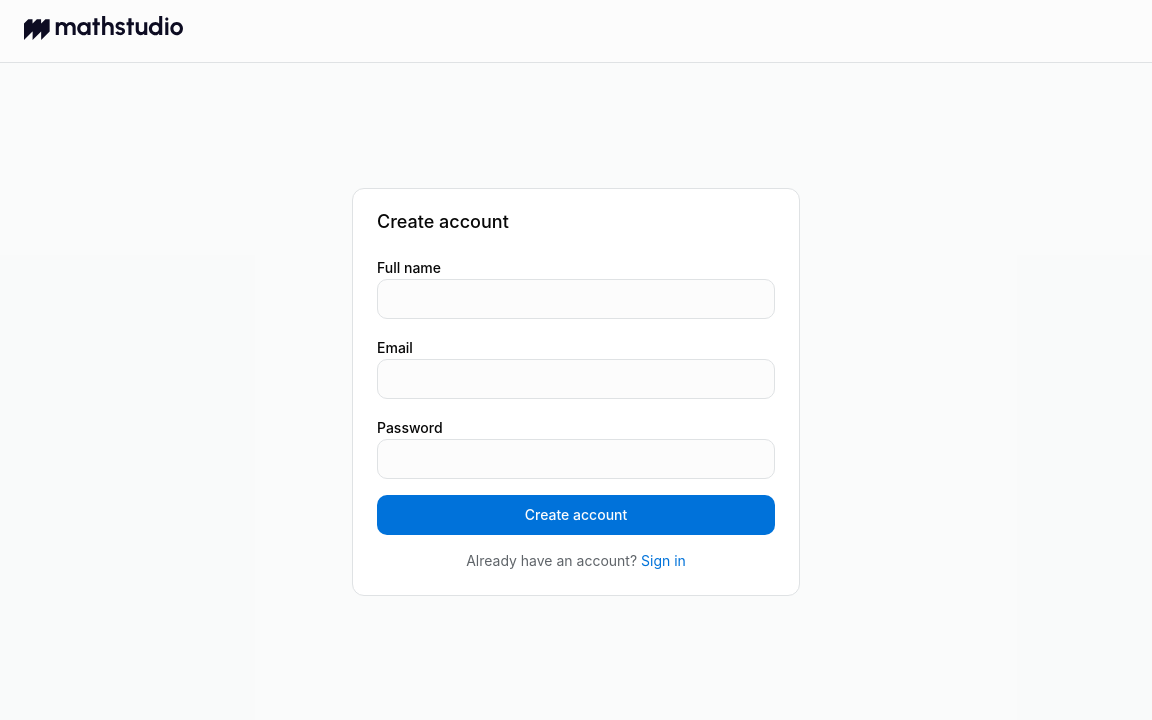
register page › validates password length
Step 1. Type "Alice" into the field labelled "Full name" → coordinates (576, 298), box top-left (377, 278), bottom-right (775, 318)
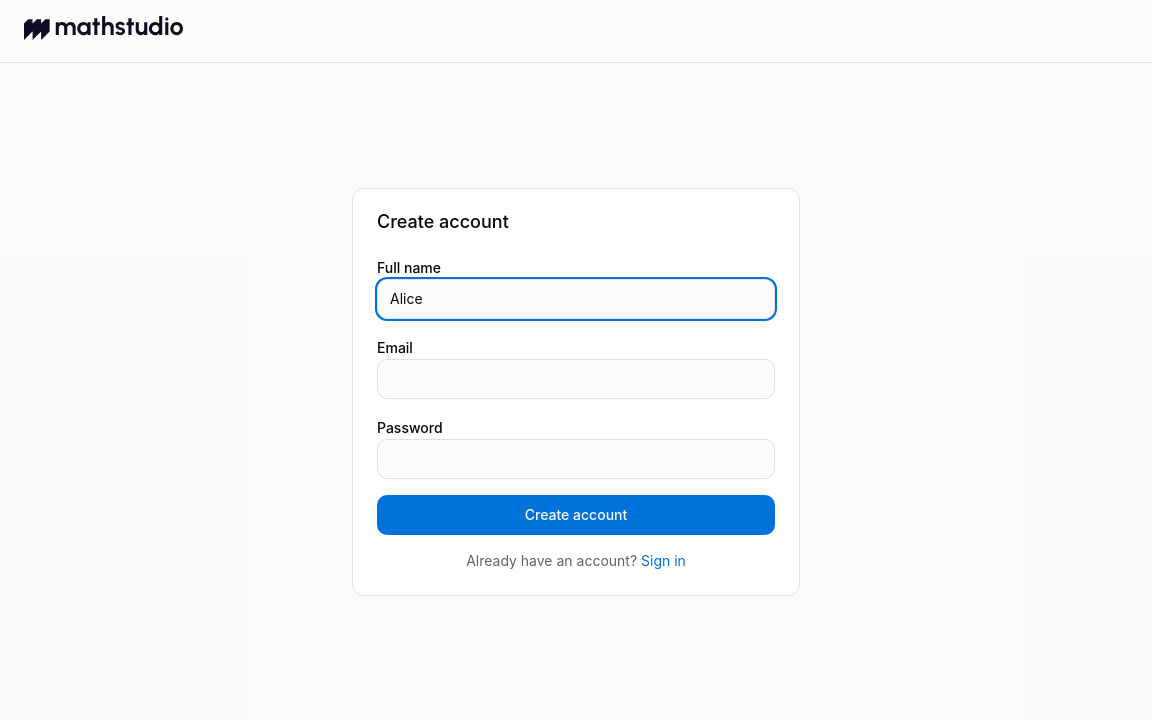
Step 2. Type "alice@example.com" into the field labelled "Email" → coordinates (576, 378), box top-left (377, 358), bottom-right (775, 398)
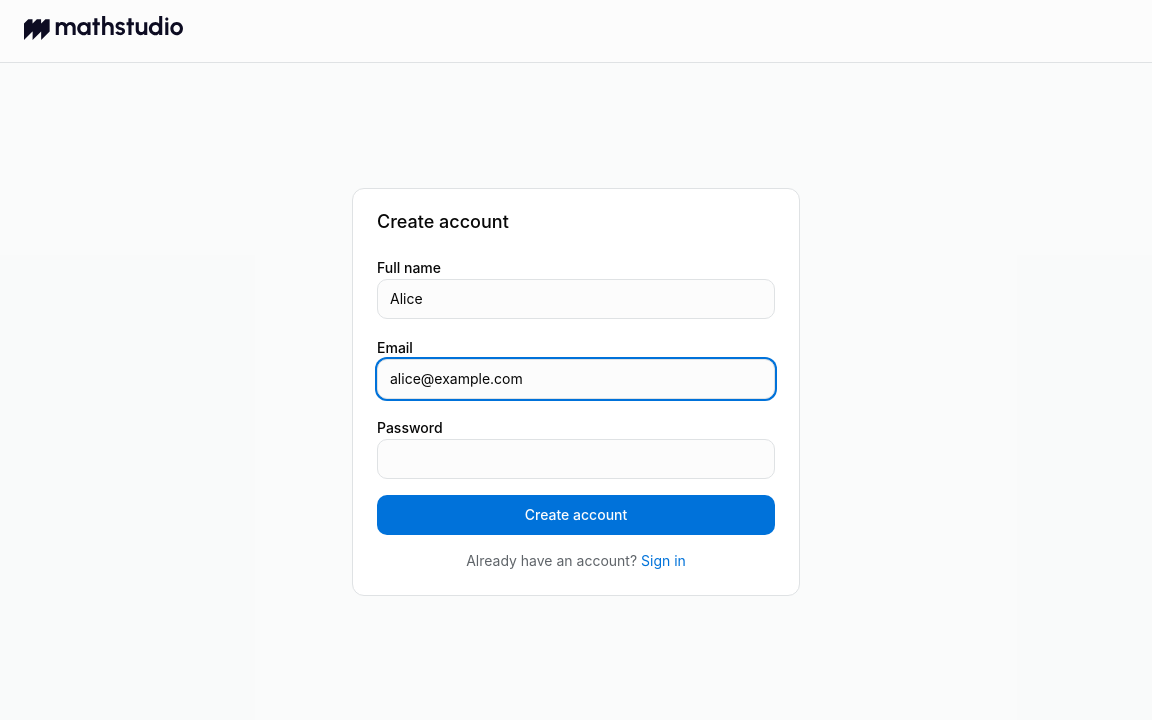
Step 3. Type "short" into the password field labelled "Password" → coordinates (576, 458), box top-left (377, 438), bottom-right (775, 478)
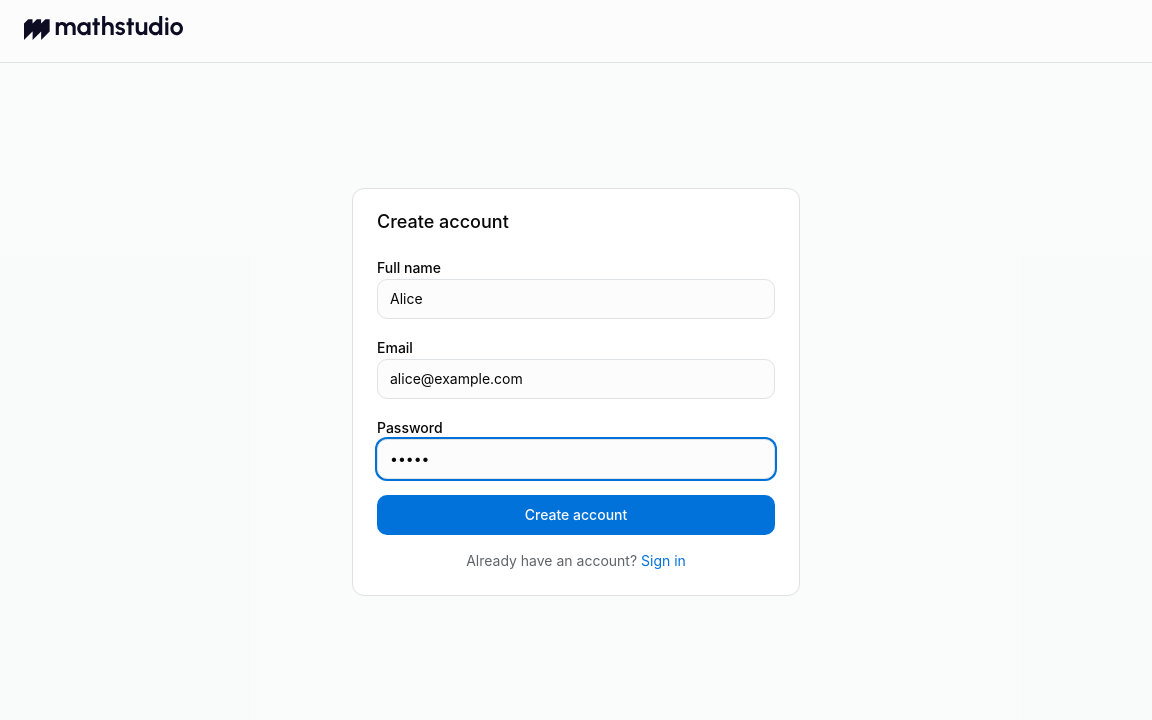
Step 4. Click the button "Create account" → coordinates (576, 514), box top-left (377, 494), bottom-right (775, 534)
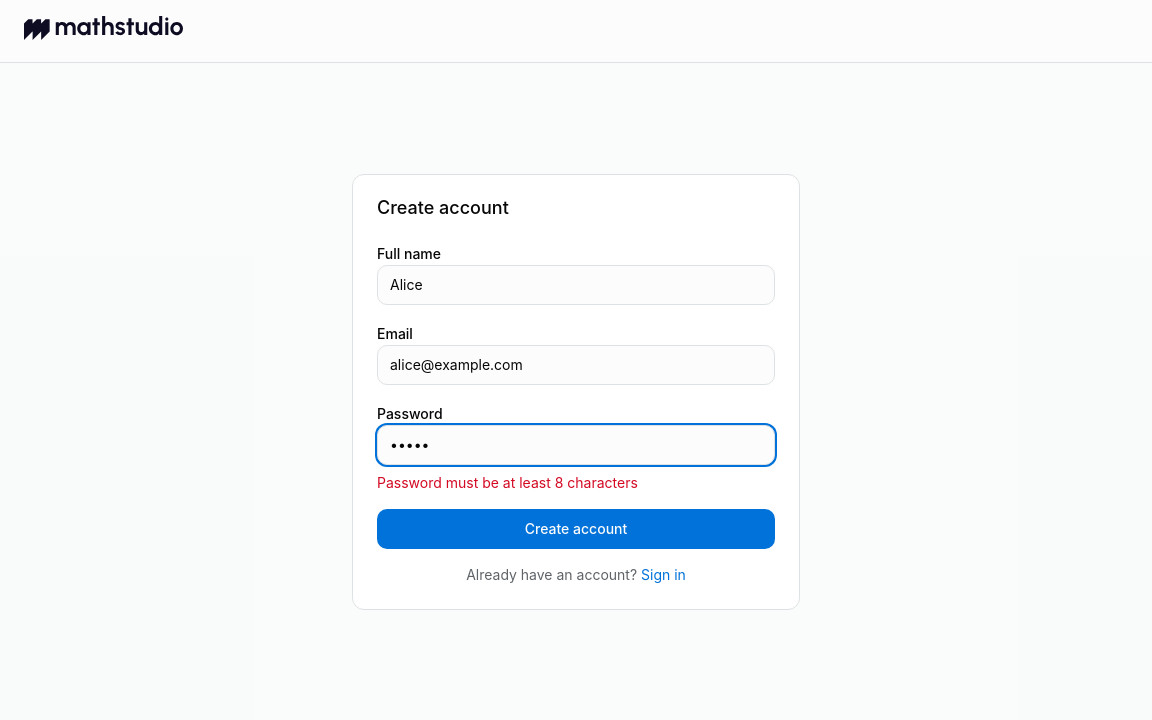
Expected: the text "Password must be at least 8 characters" is shown, top-left (377, 474), bottom-right (638, 490)
